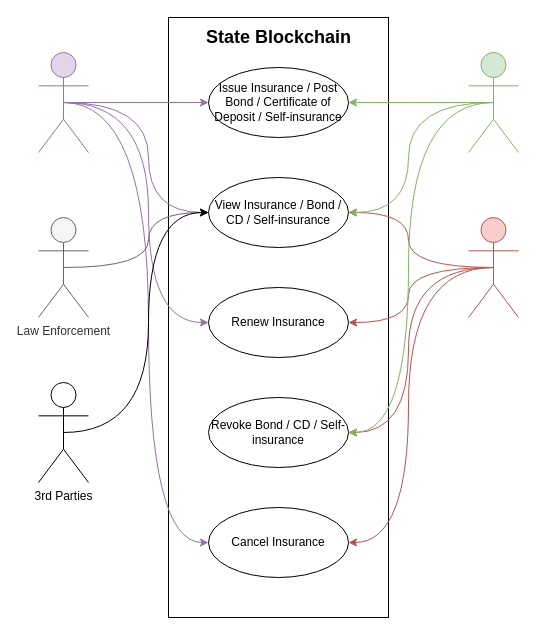
The diagram is 540 pixels wide and 643 high, and some of its shapes have lost their labels. Here are the shapes that lost their labels. From the top down, the centre of each, then its label:
point 63,102: Insurer
point 493,102: State DMV
point 493,267: Owner
